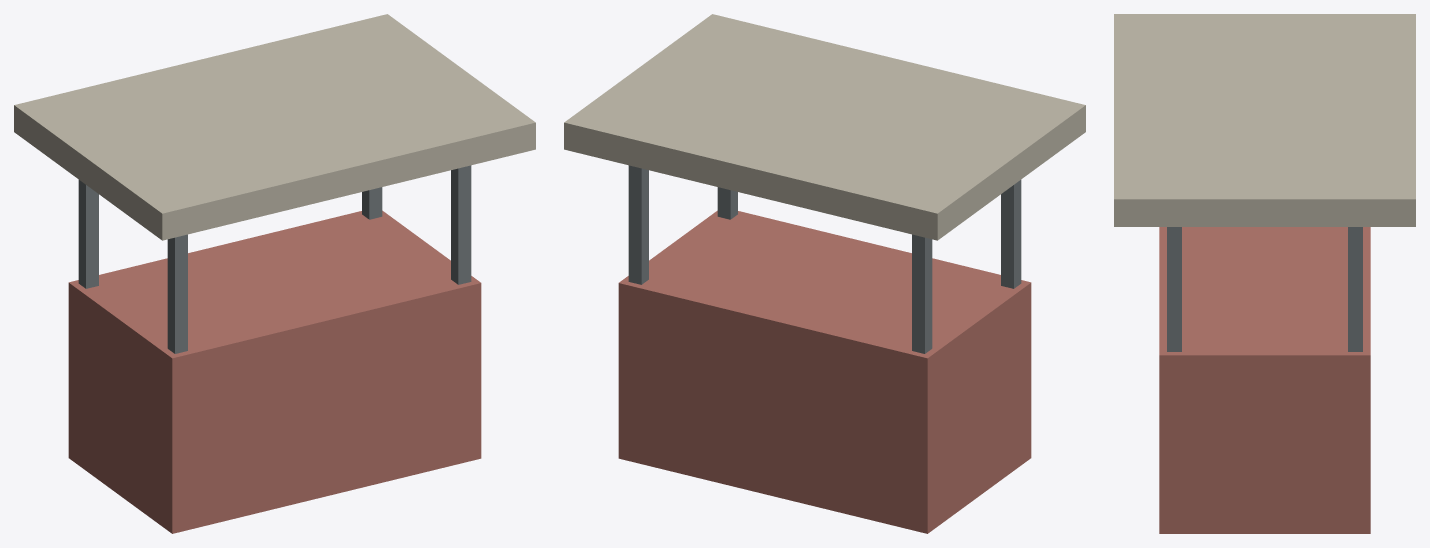
File: iz2_district_book_stall.glb
3 views of the same model, side by side, from view 1: azimuth 30°, elevation 25°; view 2: azimuth 150°, elevation 25°; view 3: azimuth 270°, elevation 25° (orthographic).
Visible parts, largest first — view 1: body; view 2: body; view 3: body.
Part boxes in pixels (<box>): body: <box>14,14,535,533</box>; body: <box>564,14,1085,533</box>; body: <box>1114,14,1415,533</box>.
Bounding box in the file's own units: 1.46 × 1.28 × 1.
